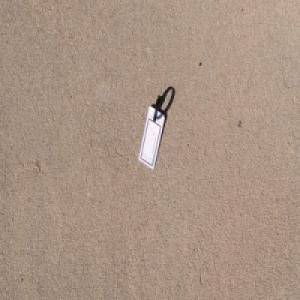LuggageTag: (138, 93, 165, 171)
